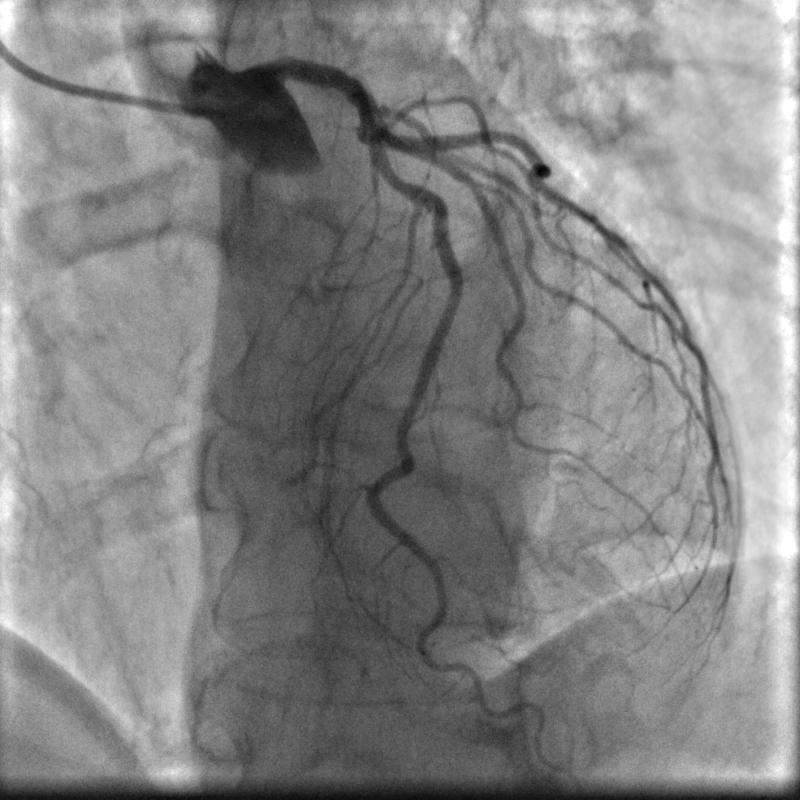Stenosis: (375, 162, 403, 185)
